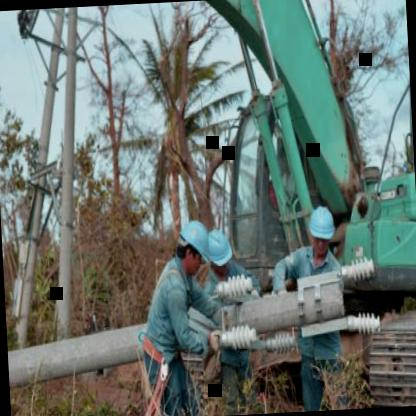helmet: (176, 219, 218, 278), (306, 201, 336, 255), (203, 222, 234, 269)
